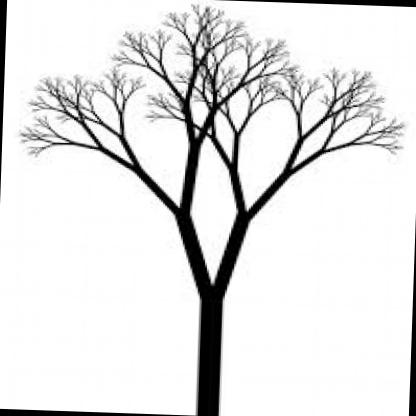trunk_straight: (192, 301, 227, 406)
